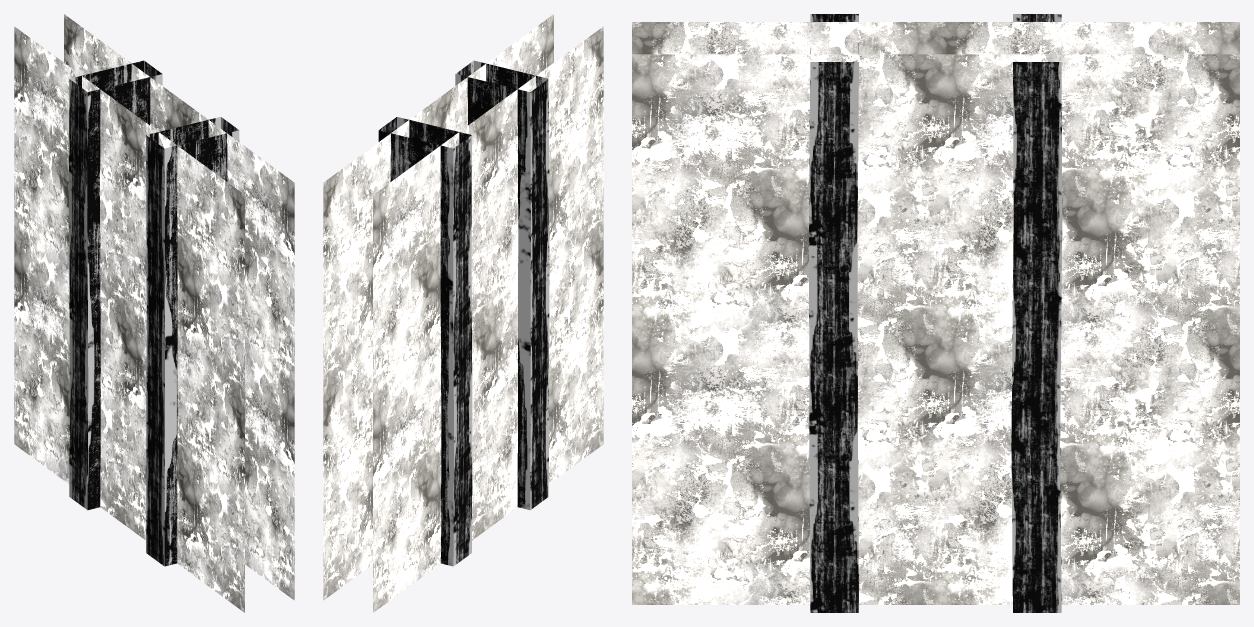
The model's file is SM_wall_A_4x4_02_01.fbx.
The picture shows the model from 3 angles, left to right: view 1: azimuth 30°, elevation 25°; view 2: azimuth 150°, elevation 25°; view 3: azimuth 270°, elevation 25°; orthographic projection. The views are drawn at different scales.
Parts seen in each view (by area): view 1: SM_wall_A_4x4_02_01_LOD0; view 2: SM_wall_A_4x4_02_01_LOD0; view 3: SM_wall_A_4x4_02_01_LOD0.
Part boxes in pixels (<box>): SM_wall_A_4x4_02_01_LOD0: <box>14,14,294,612</box>; SM_wall_A_4x4_02_01_LOD0: <box>323,14,603,612</box>; SM_wall_A_4x4_02_01_LOD0: <box>632,14,1239,612</box>.
Bounding box in the file's own units: 75 × 400 × 400.
3 materials, 3 textured.
